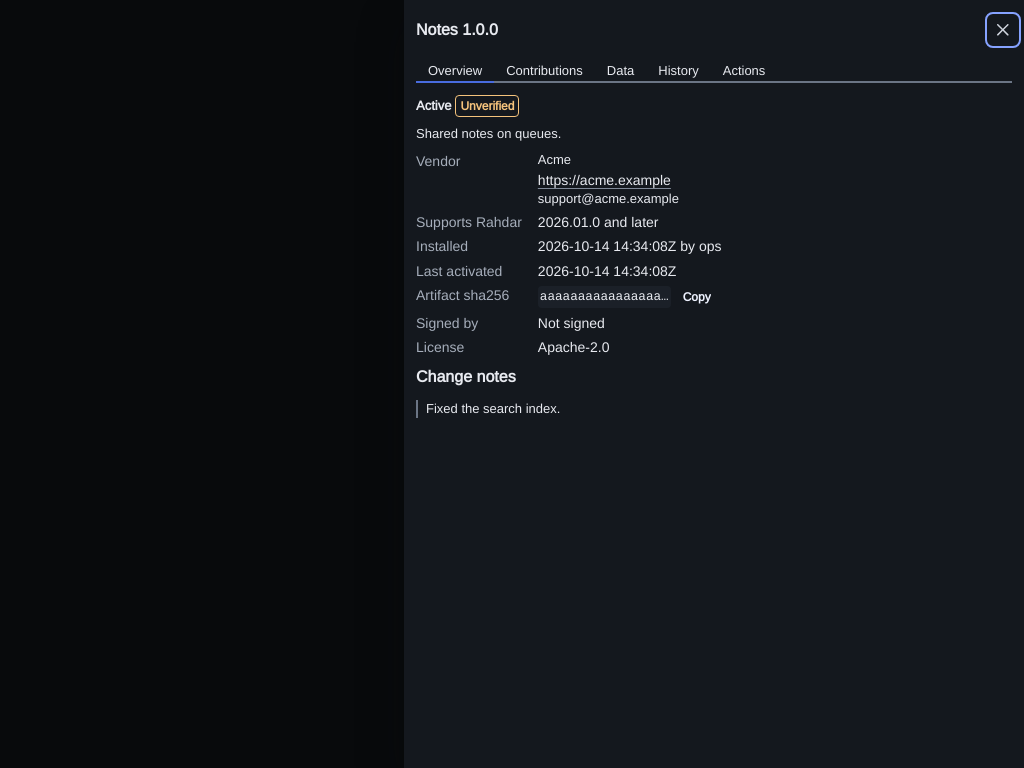
PluginDrawer: history › says when nothing is recorded
The image size is (1024, 768).
Step 1. Click the tab "History" → point(679, 72), box [646, 60, 711, 83]
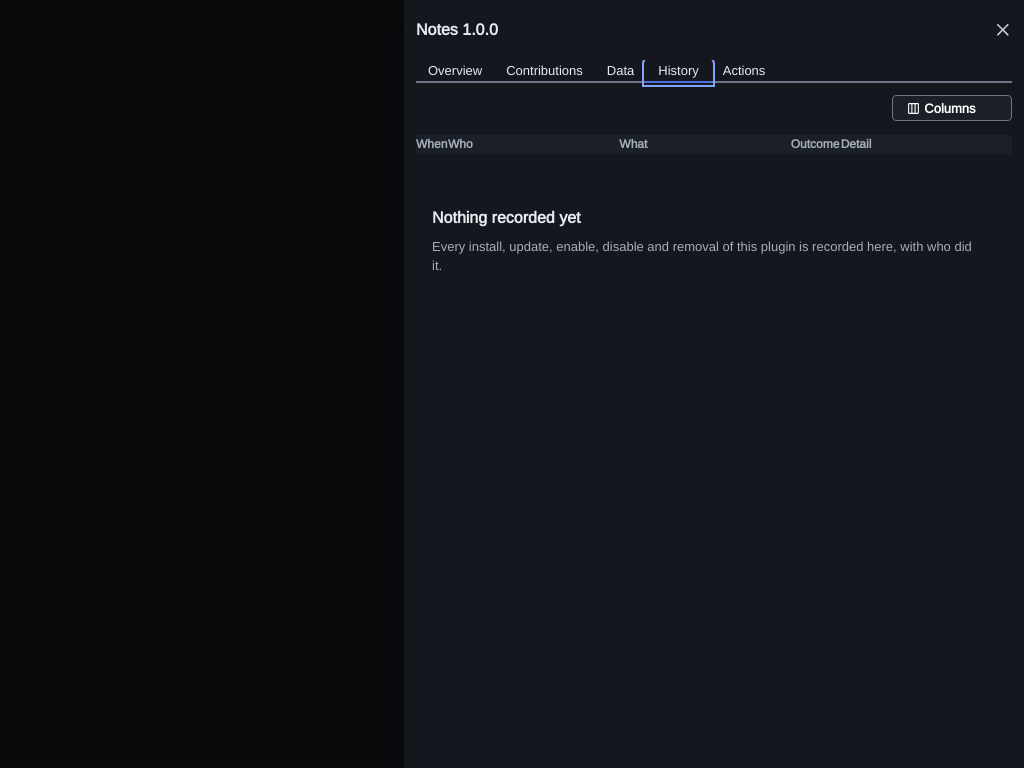
Expected: the text "Nothing recorded yet" is shown, [432, 206, 580, 230]
